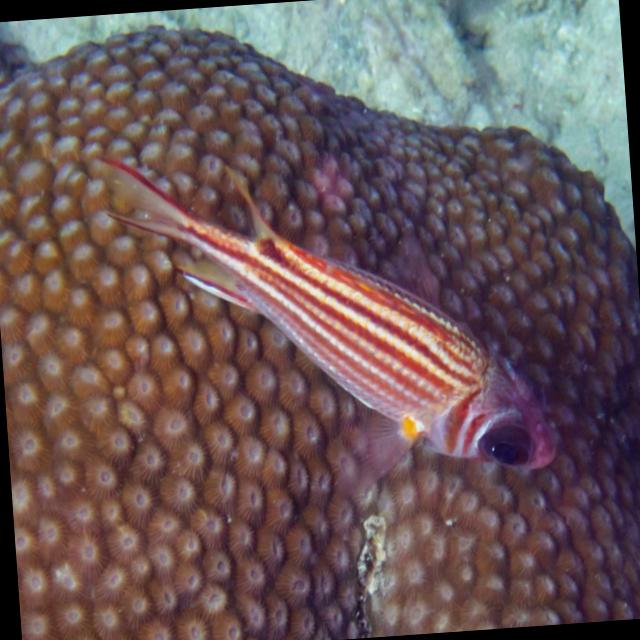Asker Baligi: (96, 121, 562, 505)
